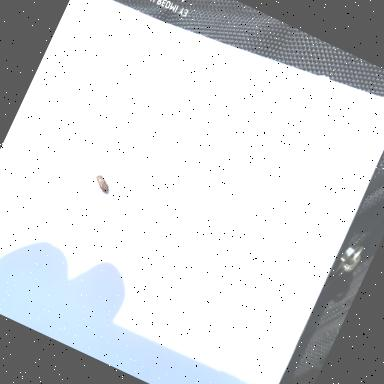pbw: (89, 172, 115, 196)
